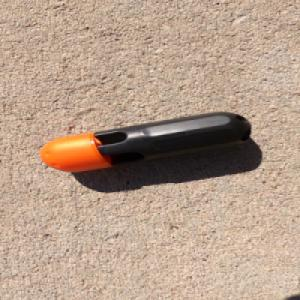PlasticPart: (39, 109, 253, 171)
